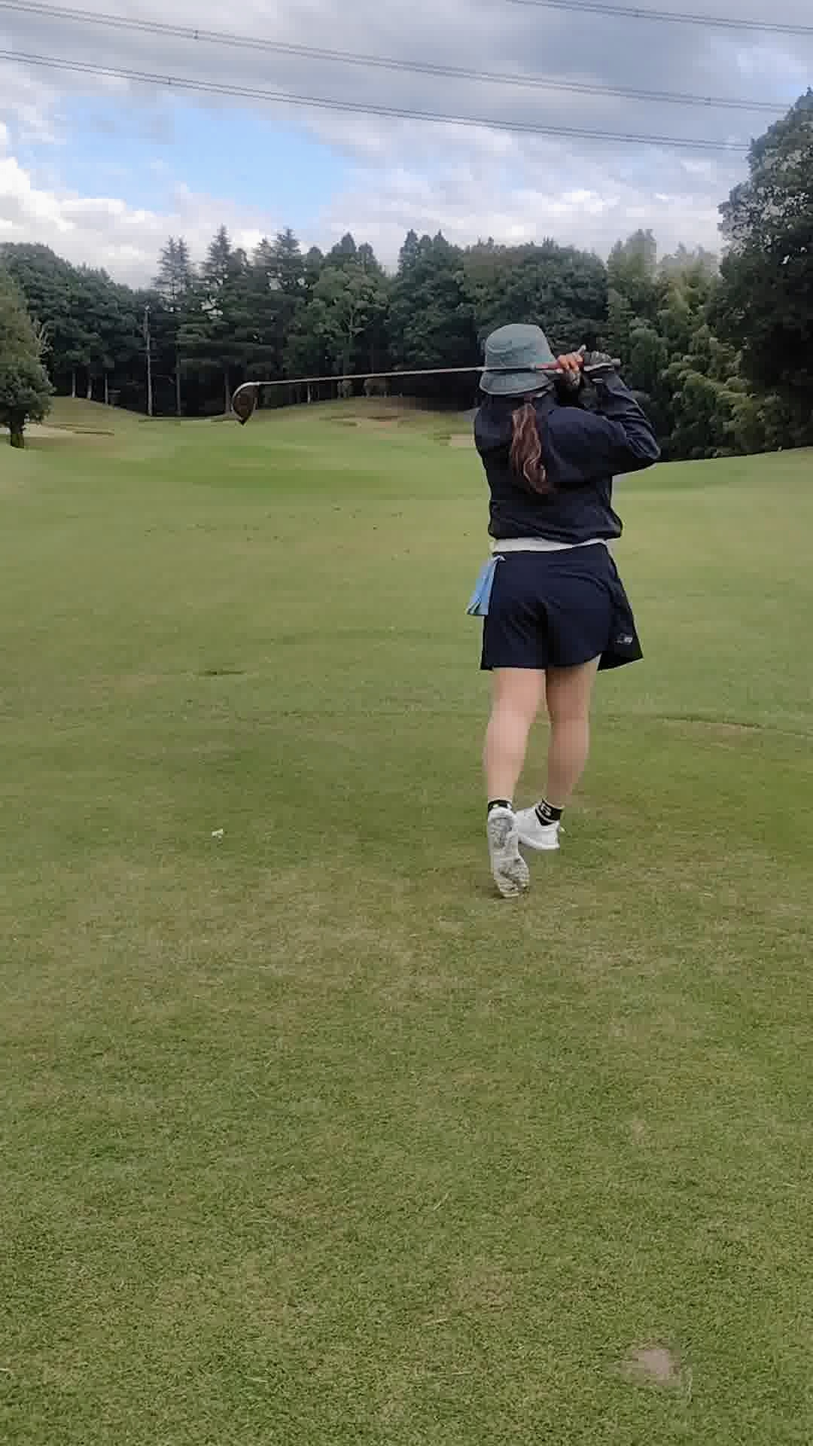clubhead: (158, 361, 321, 486)
